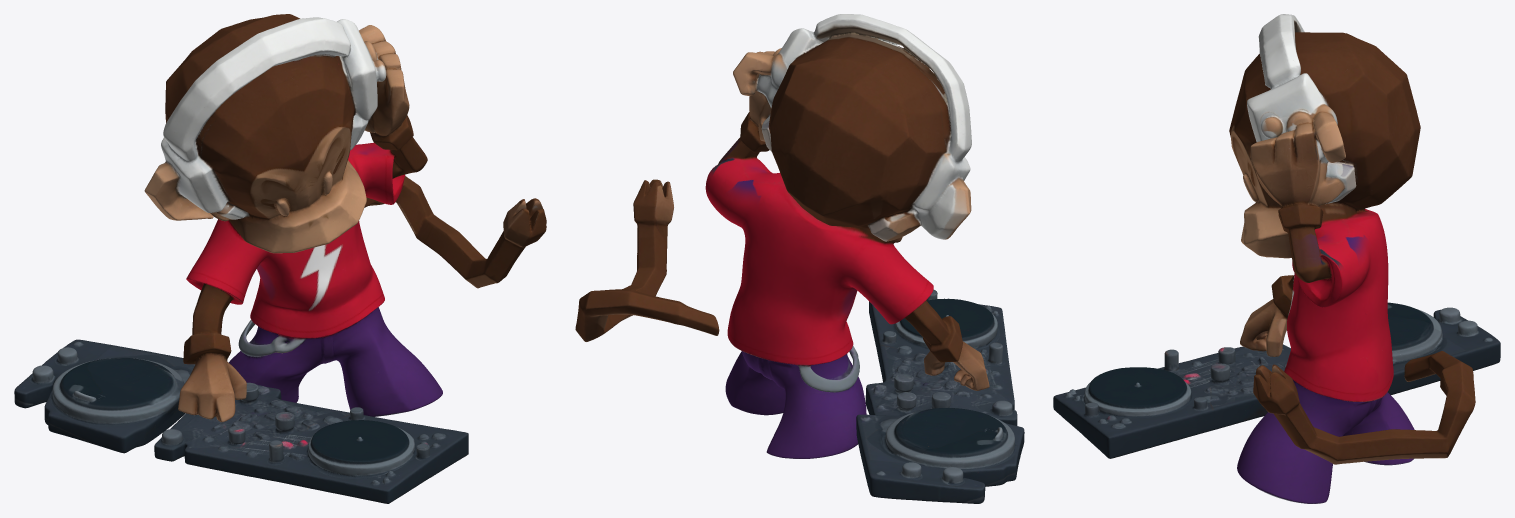
The model's file is Meshypint.glb.
3 renders of one model, left to right at view 1: azimuth 30°, elevation 25°; view 2: azimuth 150°, elevation 25°; view 3: azimuth 270°, elevation 25°, orthographic. The views are drawn at different scales.
Bounding box in the file's own units: 1.86 × 1.66 × 1.61.
1 material, 1 textured.
